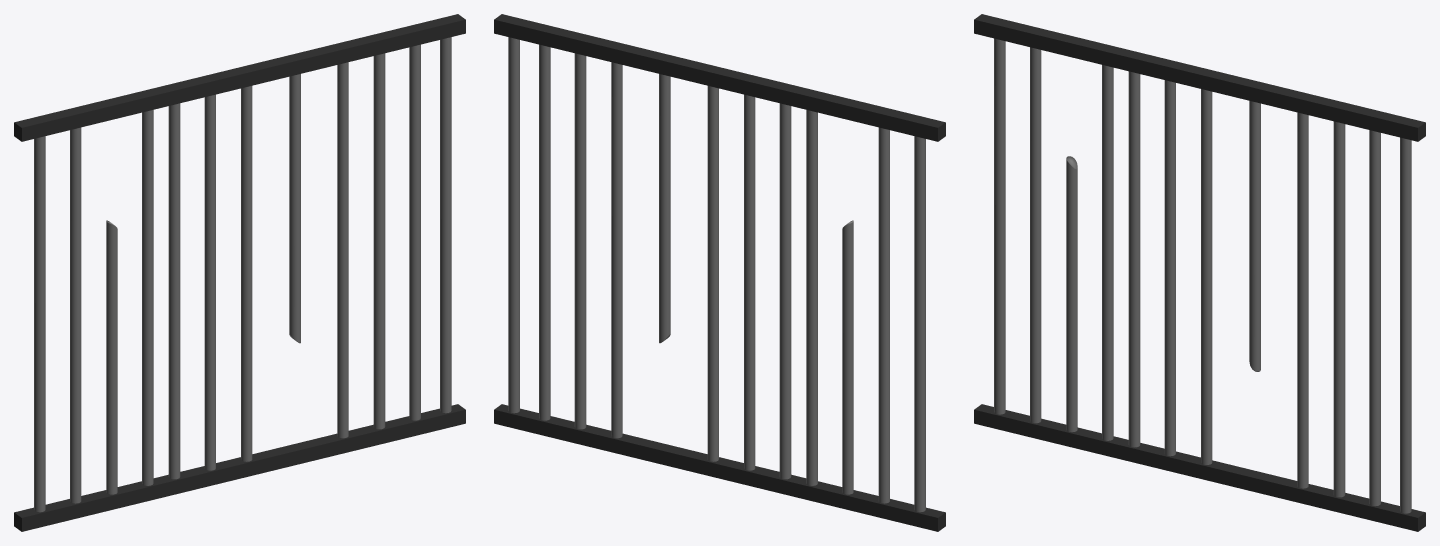
3 renders of one model, left to right at view 1: azimuth 30°, elevation 25°; view 2: azimuth 150°, elevation 25°; view 3: azimuth 330°, elevation 25°, orthographic.
Visible parts, largest first — view 1: Cube.001, Cube, Cylinder.004, Cylinder.010, Cylinder.001, Cylinder.009, Cylinder.012, Cylinder, Cylinder.003, Cylinder.005, Cylinder.011, Cylinder.006 (+2 smaller); view 2: Cube.001, Cube, Cylinder.004, Cylinder.010, Cylinder.001, Cylinder.009, Cylinder.012, Cylinder, Cylinder.003, Cylinder.005, Cylinder.011, Cylinder.006 (+2 smaller); view 3: Cube.001, Cube, Cylinder.004, Cylinder.010, Cylinder, Cylinder.009, Cylinder.001, Cylinder.005, Cylinder.011, Cylinder.012, Cylinder.003, Cylinder.006 (+2 smaller).
Boxes of the visible parts, x1,y1,x2,y2 form: Cube.001: (14,14,465,141); Cube: (14,404,465,531); Cylinder.004: (168,103,180,479); Cylinder.010: (373,53,385,429); Cylinder.001: (70,127,81,503); Cylinder.009: (337,62,348,438); Cylinder.012: (440,37,451,413); Cylinder: (34,136,45,512); Cylinder.003: (142,110,153,485); Cylinder.005: (204,94,215,470); Cylinder.011: (409,44,420,420); Cylinder.006: (241,86,252,461); Cube.001: (494,14,945,141); Cube: (494,404,945,531); Cylinder.004: (779,103,791,479); Cylinder.010: (574,53,586,429); Cylinder.001: (878,127,889,503); Cylinder.009: (611,62,622,438); Cylinder.012: (508,37,519,413); Cylinder: (914,136,925,512); Cylinder.003: (806,110,817,485); Cylinder.005: (744,94,755,470); Cylinder.011: (539,44,550,420); Cylinder.006: (707,86,718,461); Cube.001: (974,14,1425,141); Cube: (974,404,1425,531); Cylinder.004: (1128,71,1140,447); Cylinder.010: (1333,121,1345,497); Cylinder: (994,38,1005,414); Cylinder.009: (1297,112,1308,488); Cylinder.001: (1030,47,1041,423); Cylinder.005: (1164,80,1175,456); Cylinder.011: (1369,130,1380,506); Cylinder.012: (1400,137,1411,513); Cylinder.003: (1102,65,1113,440); Cylinder.006: (1201,89,1212,464).
Size of the model in its own units: 2249 by 1956 by 67.56.
2 materials, 2 textured.
